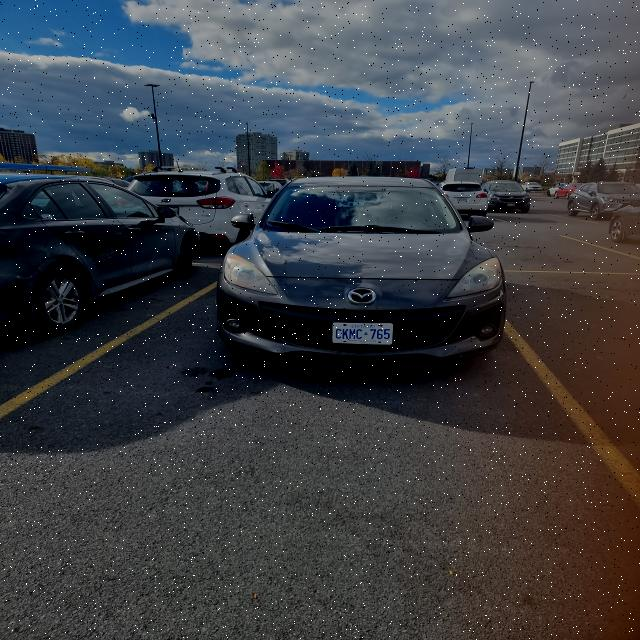plaque: (333, 323, 392, 344), (168, 207, 179, 215), (456, 198, 468, 202), (508, 204, 515, 206)
